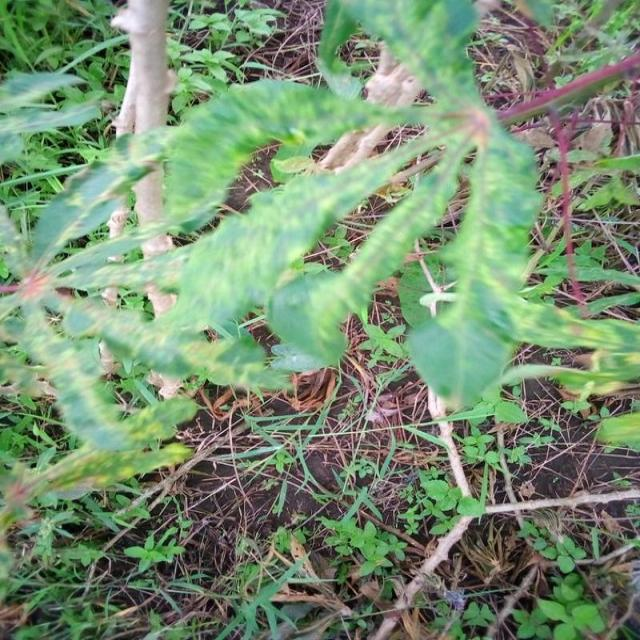cassava leaf: (2, 1, 636, 514)
